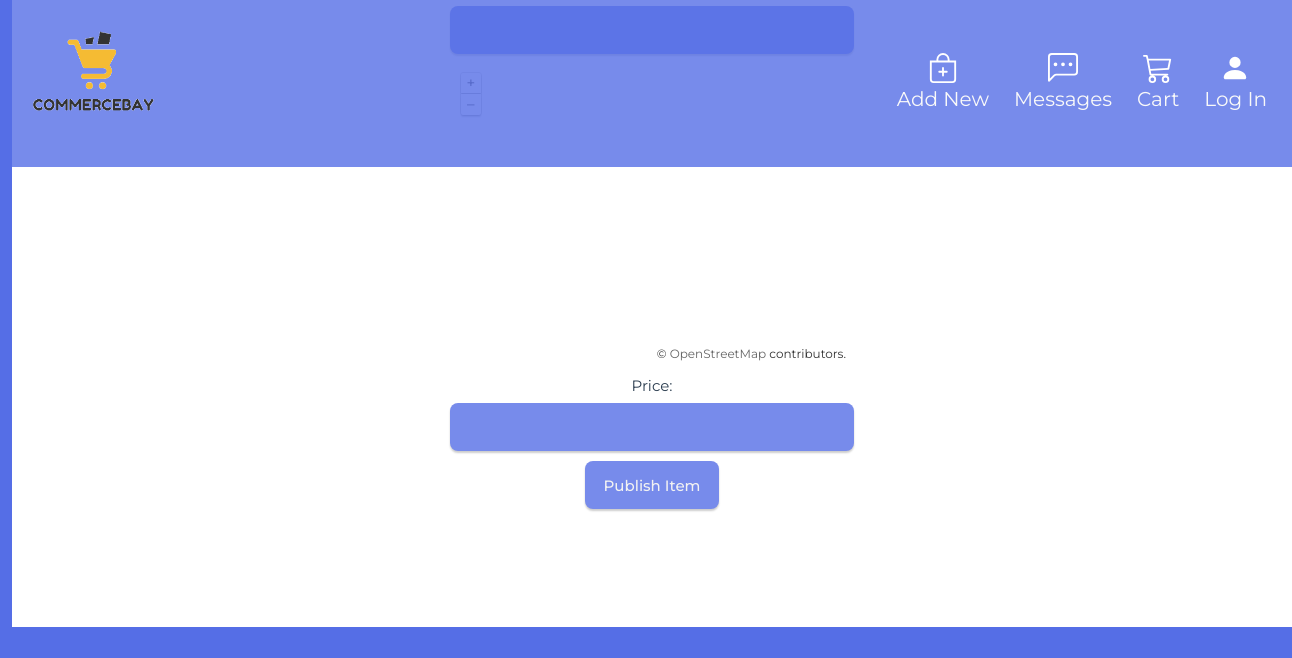
New Ad Post › should display an error message when required fields are empty
(page scrolled)
Click the button "Publish Item" at (653, 485), box [585, 461, 720, 509]
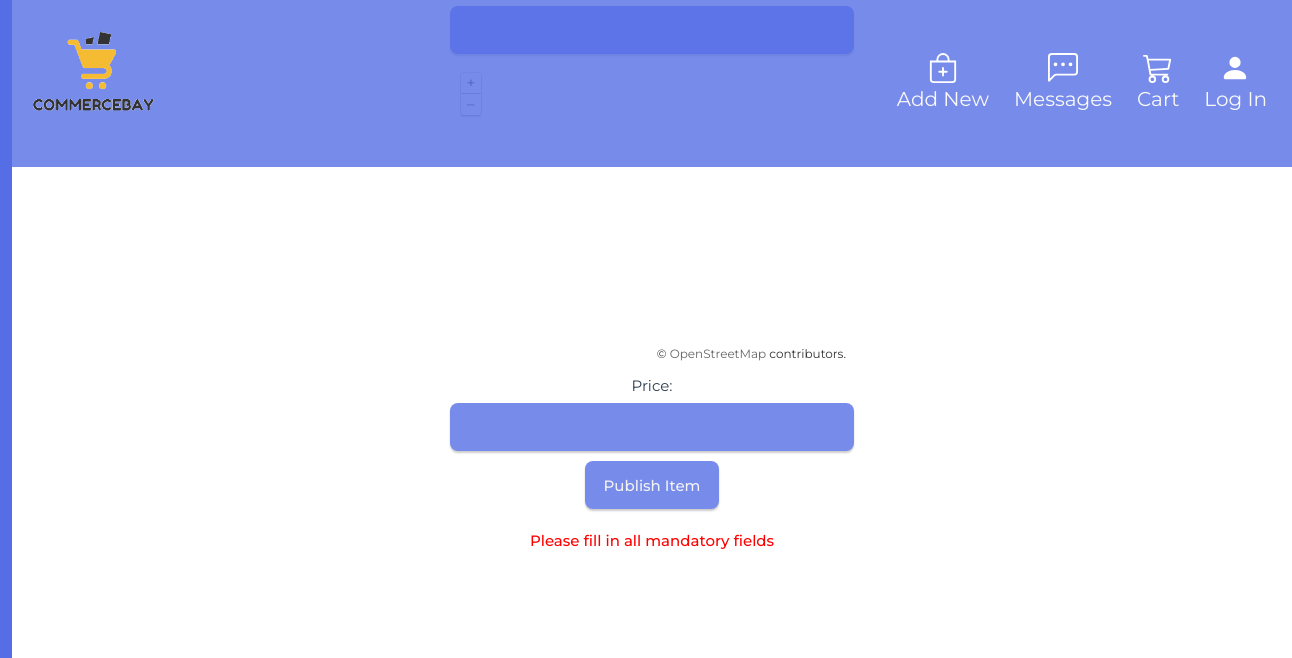
Now the text with class "error-message" reads "Please fill in all mandatory fields", box [530, 531, 774, 550]
